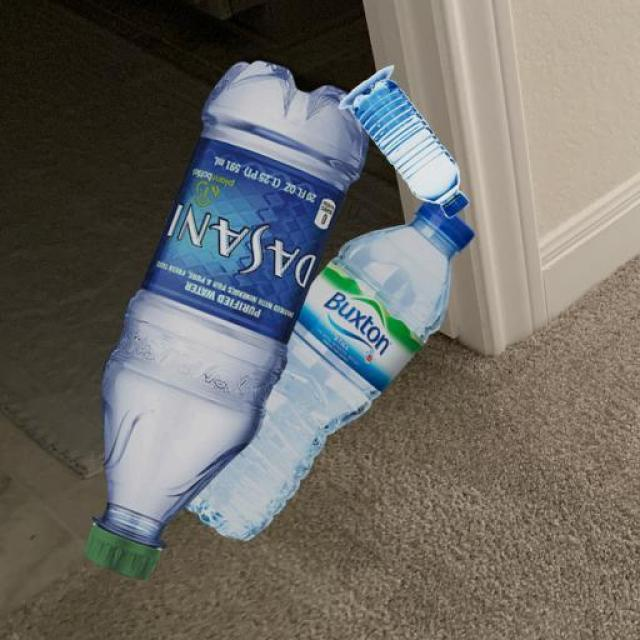bottle: (85, 49, 316, 608)
